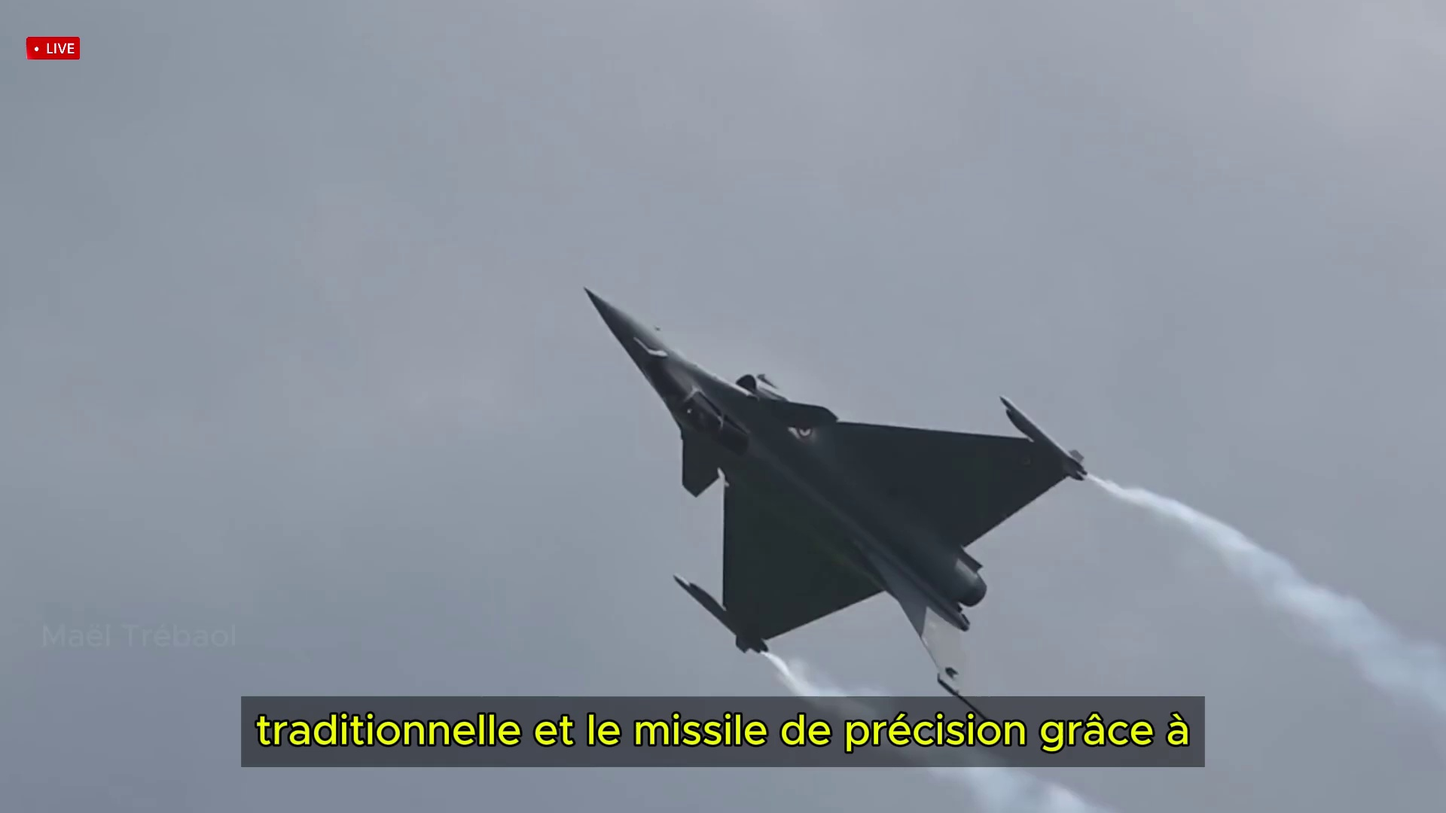Rafale: (581, 288, 1083, 719)
